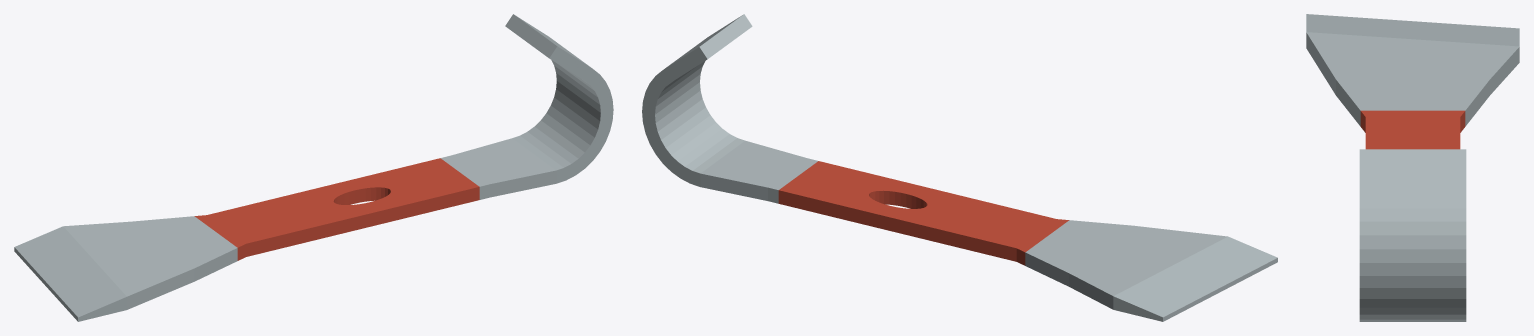
The picture shows the model from 3 angles, left to right: view 1: azimuth 30°, elevation 25°; view 2: azimuth 150°, elevation 25°; view 3: azimuth 270°, elevation 25°; orthographic projection. The views are drawn at different scales.
Visible parts, largest first — view 1: HiveScraper_ContinuousWedgeGripAndHook; view 2: HiveScraper_ContinuousWedgeGripAndHook; view 3: HiveScraper_ContinuousWedgeGripAndHook.
Part boxes in pixels (x1,y1,x2,y2): HiveScraper_ContinuousWedgeGripAndHook: (14,14,613,321); HiveScraper_ContinuousWedgeGripAndHook: (642,14,1277,321); HiveScraper_ContinuousWedgeGripAndHook: (1306,14,1519,321).
Size of the model in its own units: 0.2628 by 0.0618 by 0.072.
